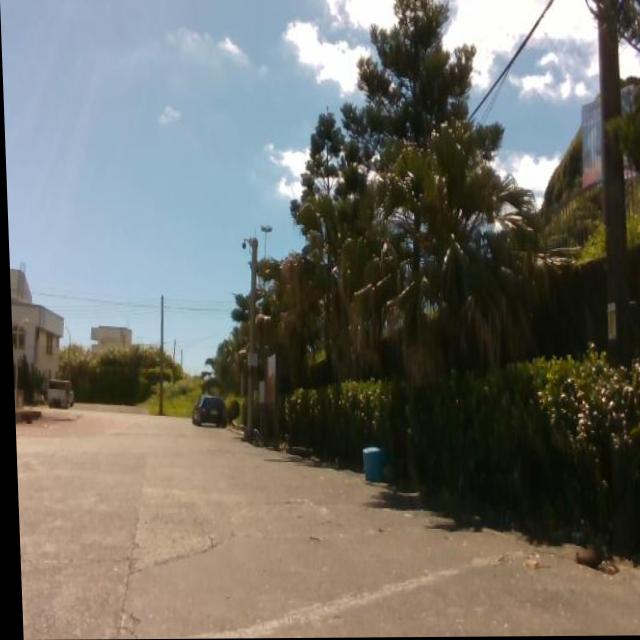pollute: (355, 444, 385, 485)
